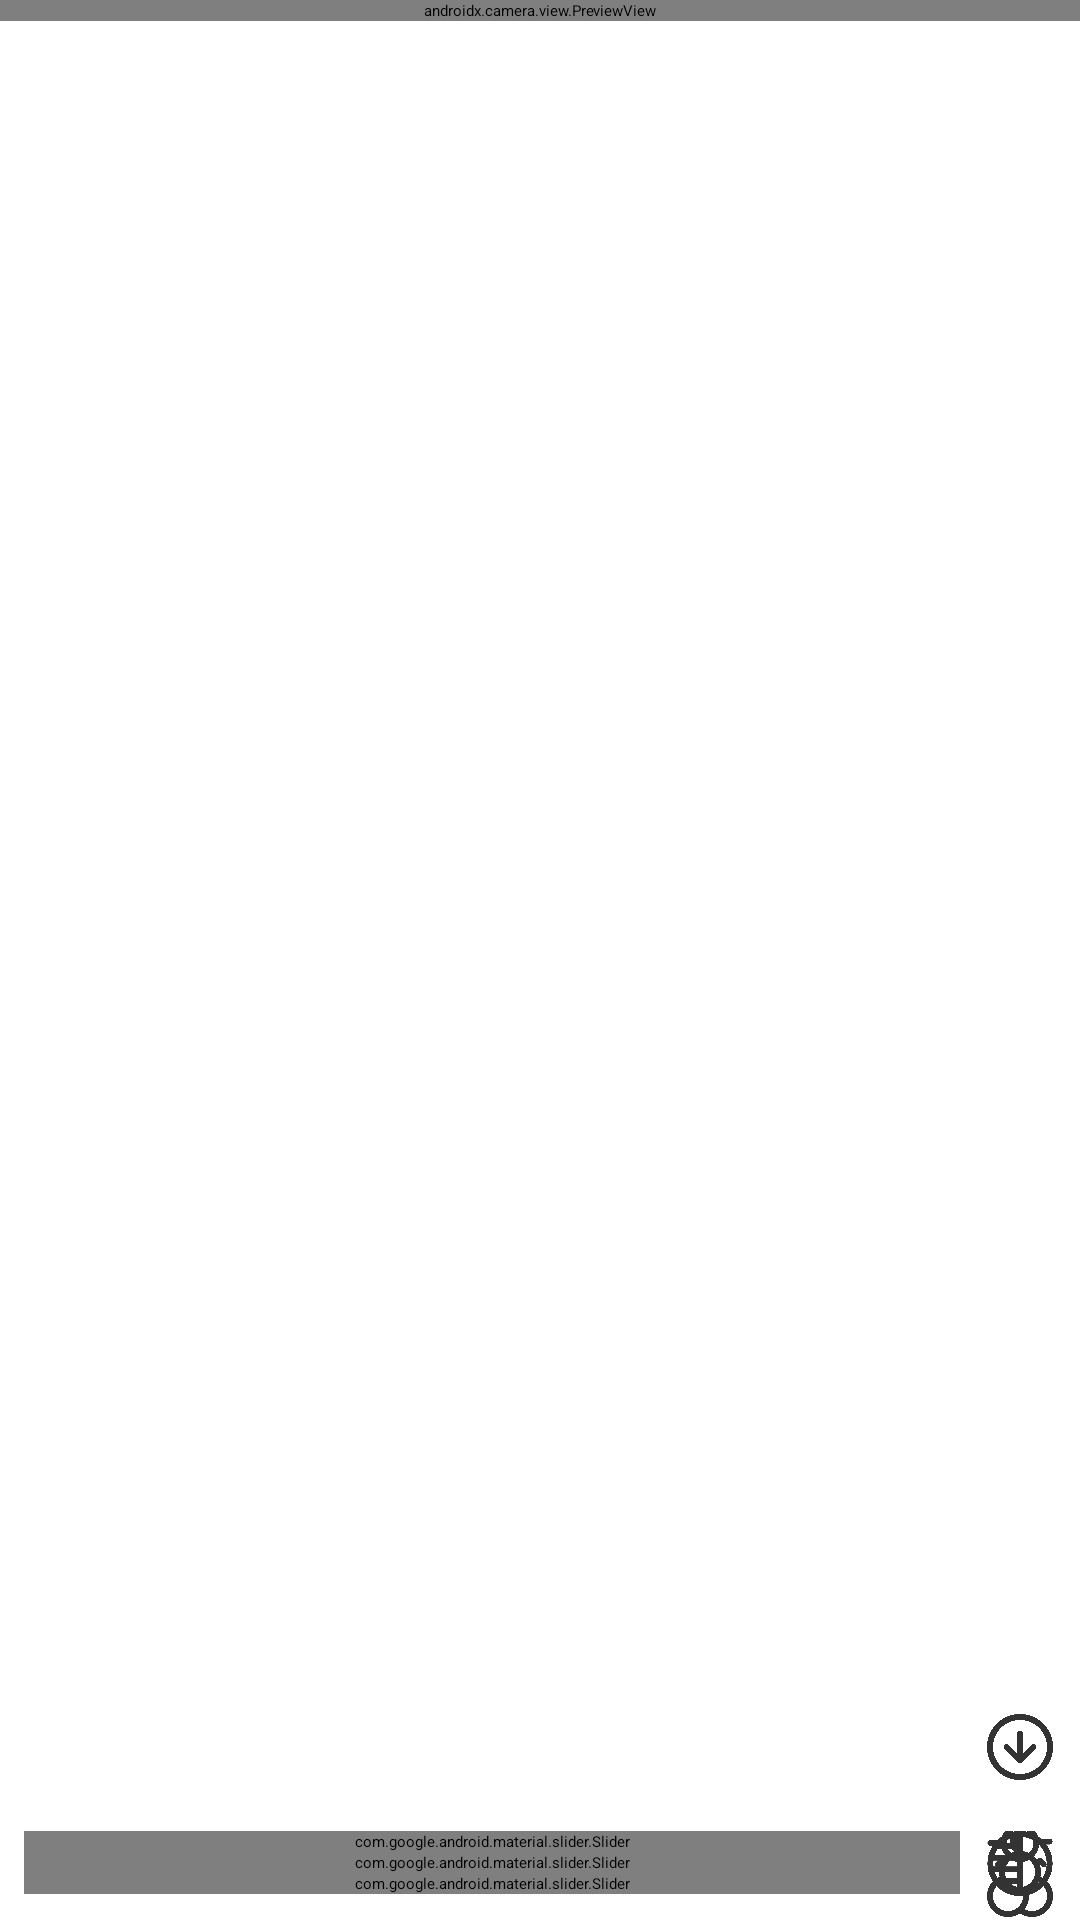

Icon bounding boxes for this 1080 x 1920 phone screenshot, format (x1, y1, x2, y2):
arrow circle down: (987, 1714, 1053, 1780)
